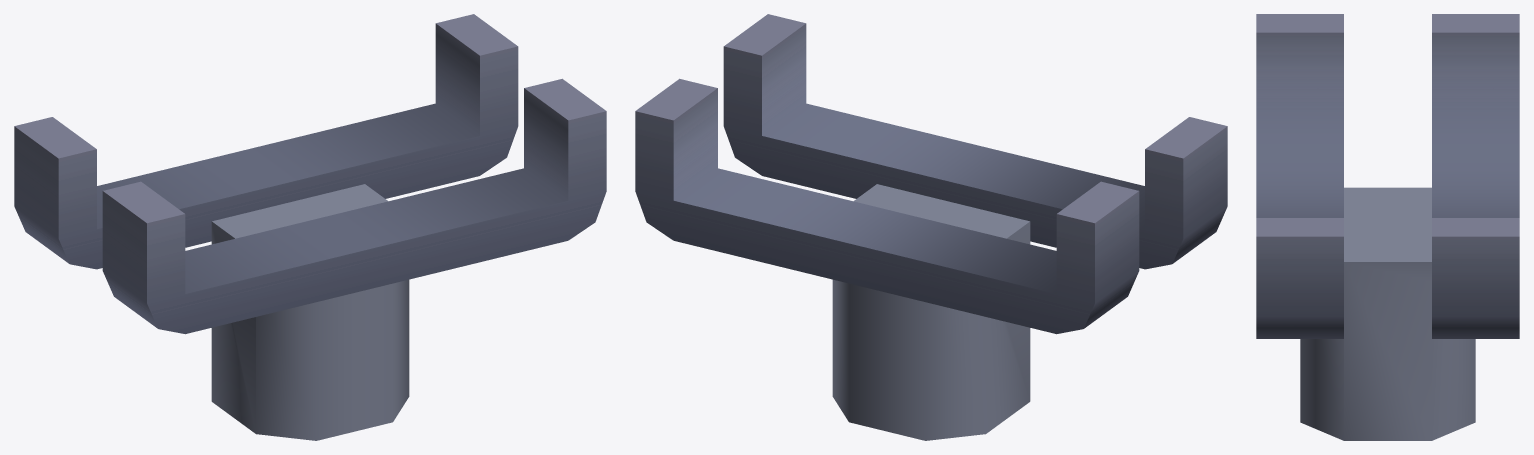
Rendered from support-single-top-double.glb.
3 renders of one model, left to right at view 1: azimuth 30°, elevation 25°; view 2: azimuth 150°, elevation 25°; view 3: azimuth 270°, elevation 25°, orthographic.
Parts seen in each view (by area): view 1: support-single-top-double; view 2: support-single-top-double; view 3: support-single-top-double.
Boxes of the visible parts, x1,y1,x2,y2 form: support-single-top-double: (14,14,606,440); support-single-top-double: (635,14,1227,440); support-single-top-double: (1256,14,1519,440).
Bounding box in the file's own units: 1.2 × 0.7 × 0.6001.
Materials: 1 (1 with a texture image).
